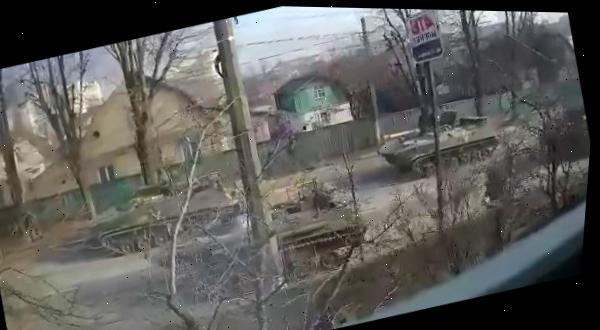car: (150, 169, 379, 310), (78, 162, 247, 266), (367, 97, 507, 189), (524, 86, 595, 164)
